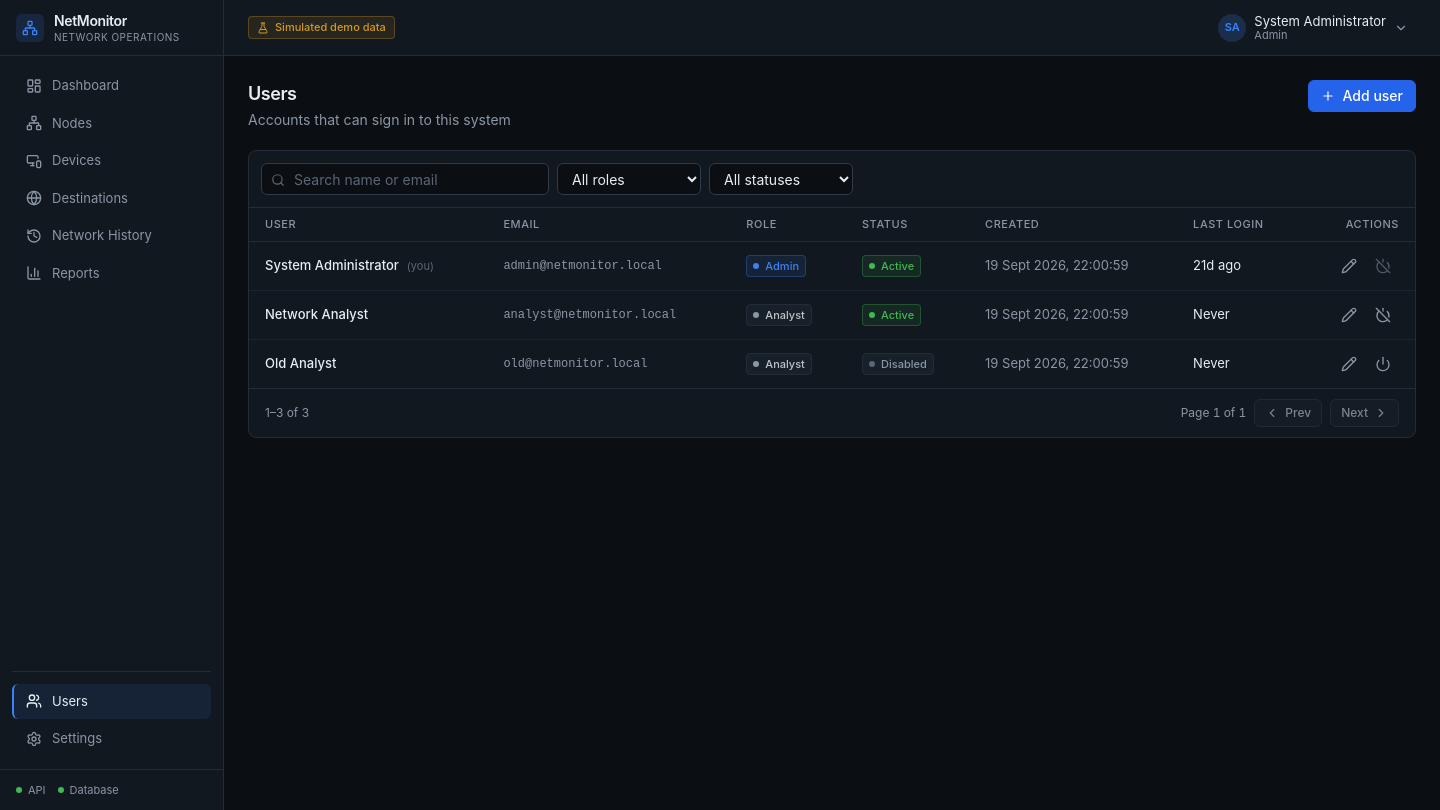
Test: UsersPage › adds a user after validating the form
Click the button "Add user": coordinates (1362, 96) [1308, 80, 1416, 112]
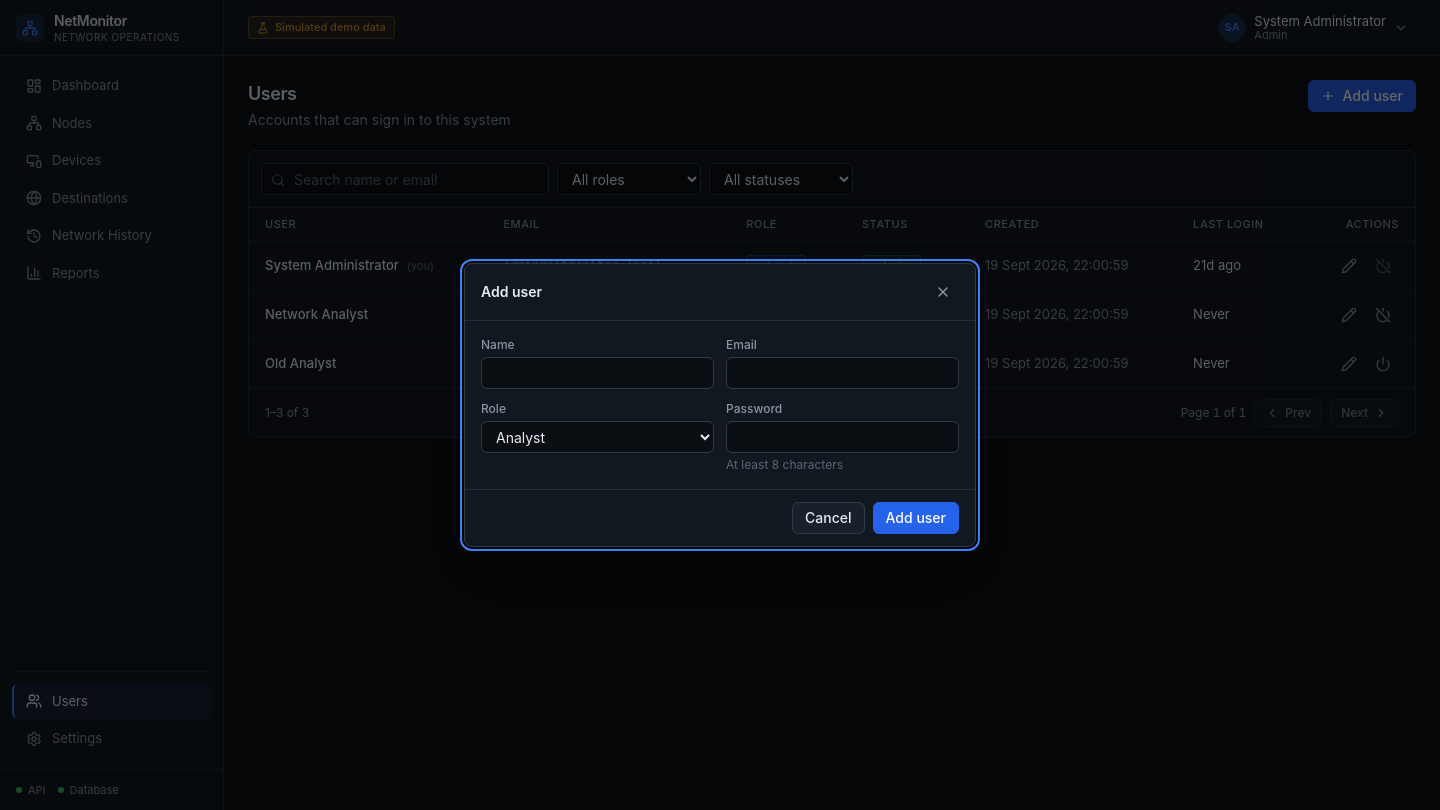
Click the button "Add user": coordinates (916, 518) [872, 502, 959, 534]
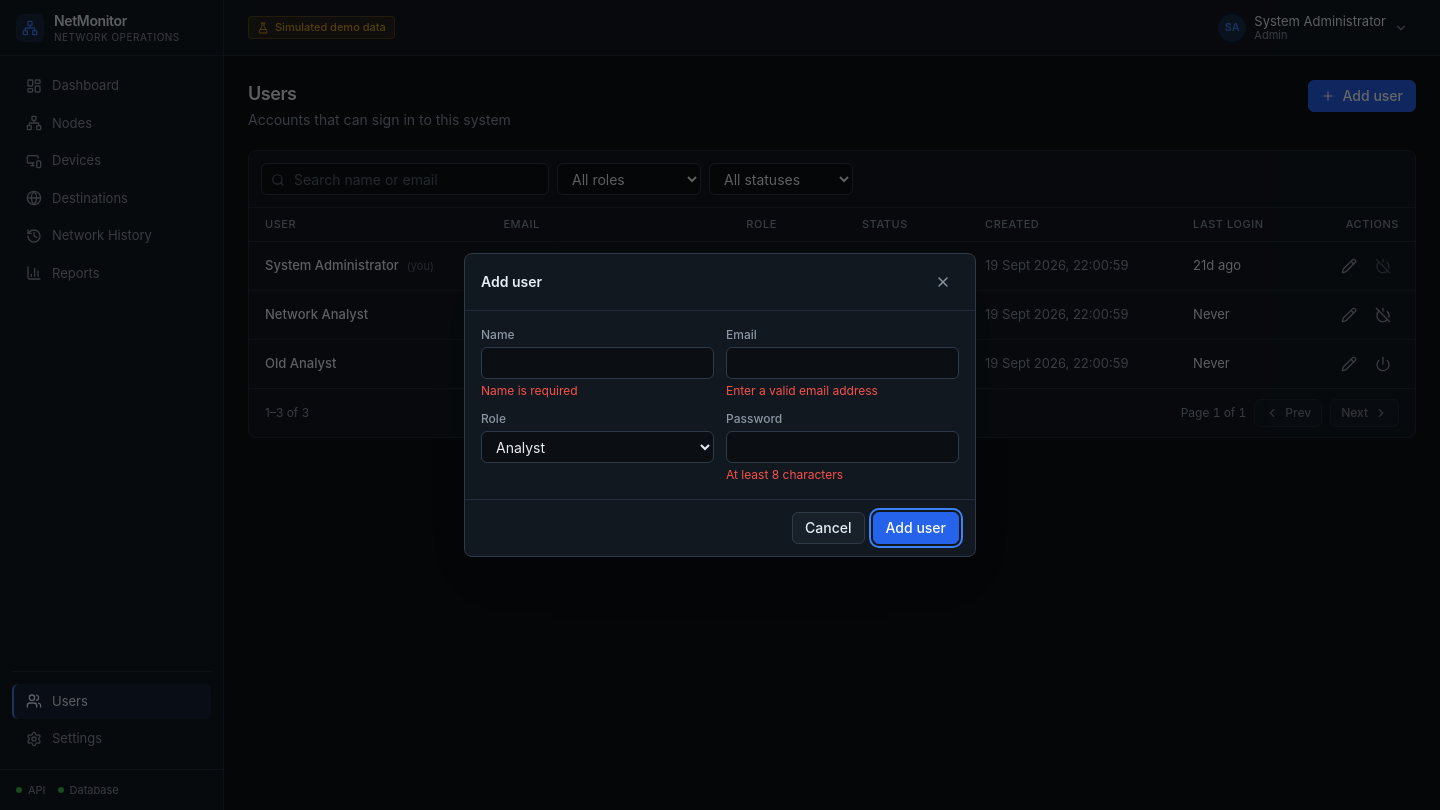
Check: the text "Name is required" is shown, box [481, 383, 578, 398]
Check: the text "Enter a valid email address" is shown, box [726, 383, 878, 398]
In the field labelled "Name": coordinates (598, 363) [481, 347, 714, 379], type "New Person"
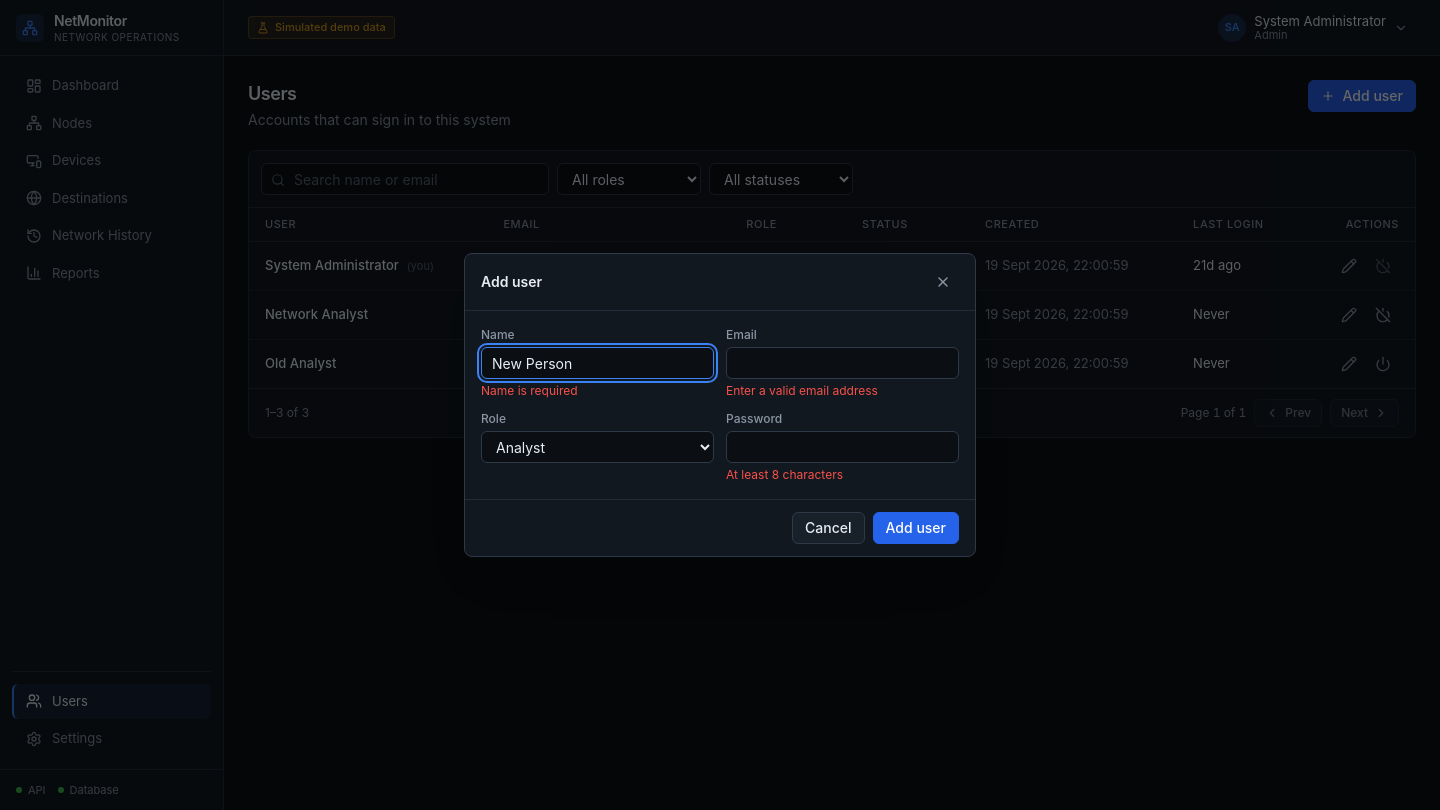
In the field labelled "Email": coordinates (842, 363) [726, 347, 959, 379], type "new@netmonitor.local"
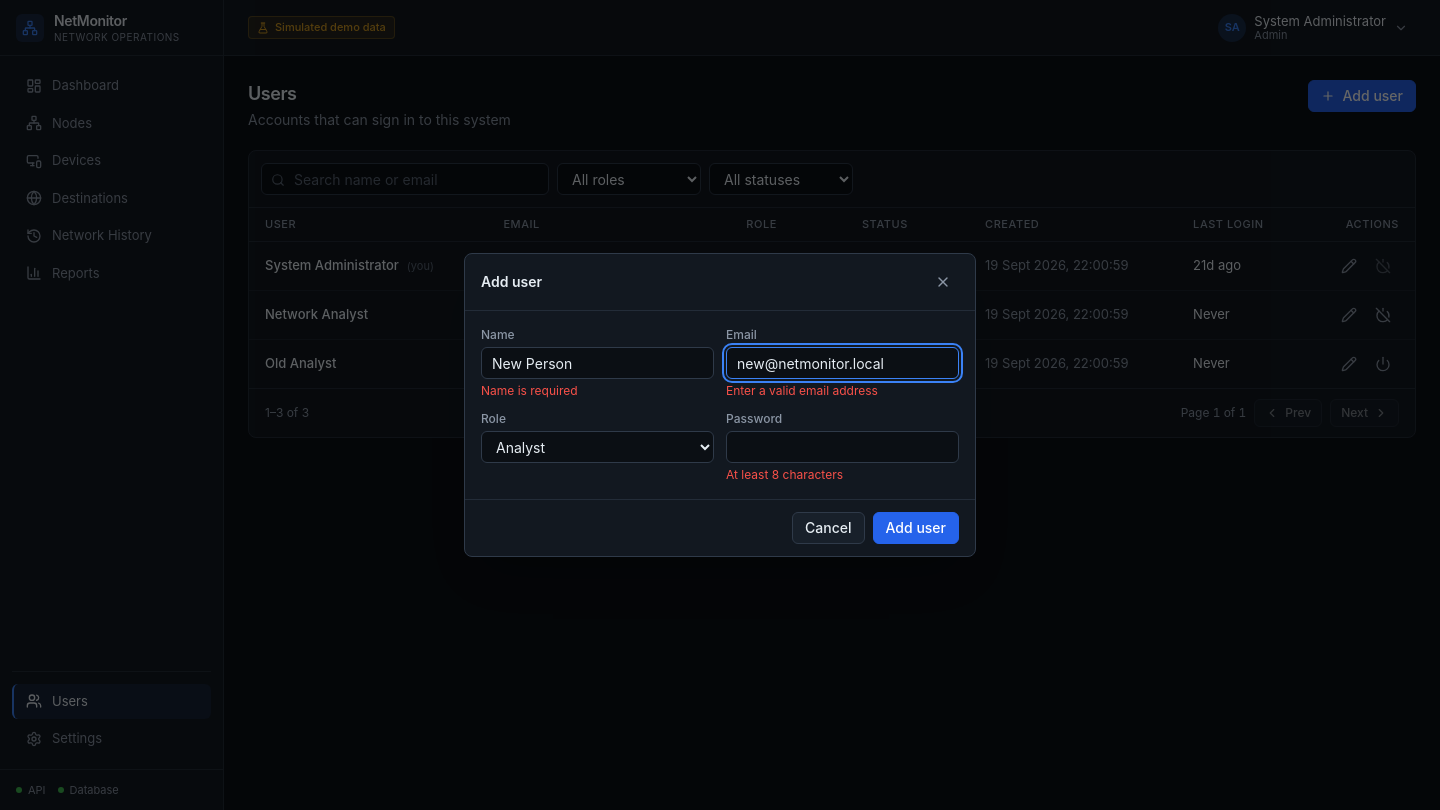
In the password field labelled "Password": coordinates (842, 447) [726, 431, 959, 463], type "a-long-enough-password"
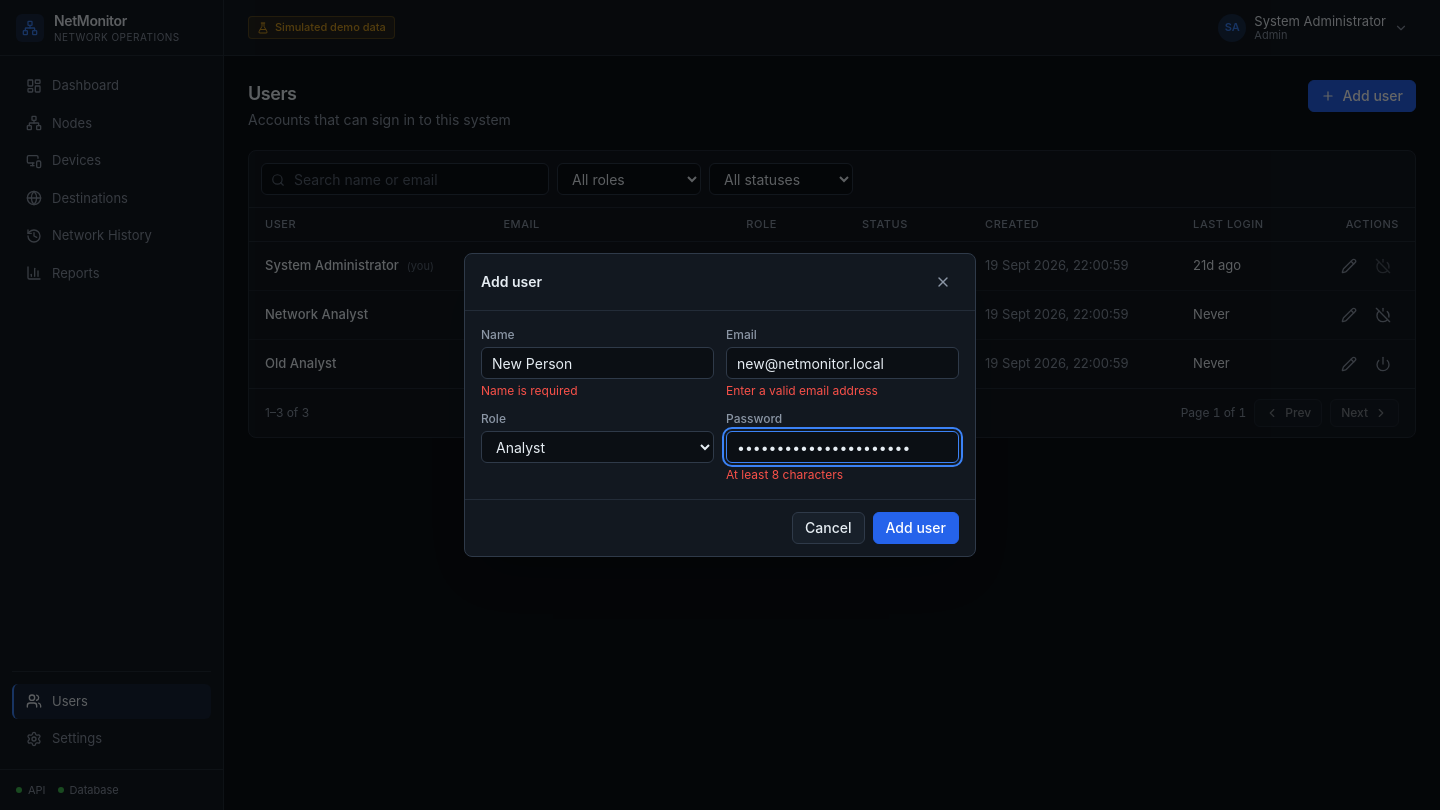
Click the button "Add user": coordinates (916, 528) [872, 512, 959, 544]
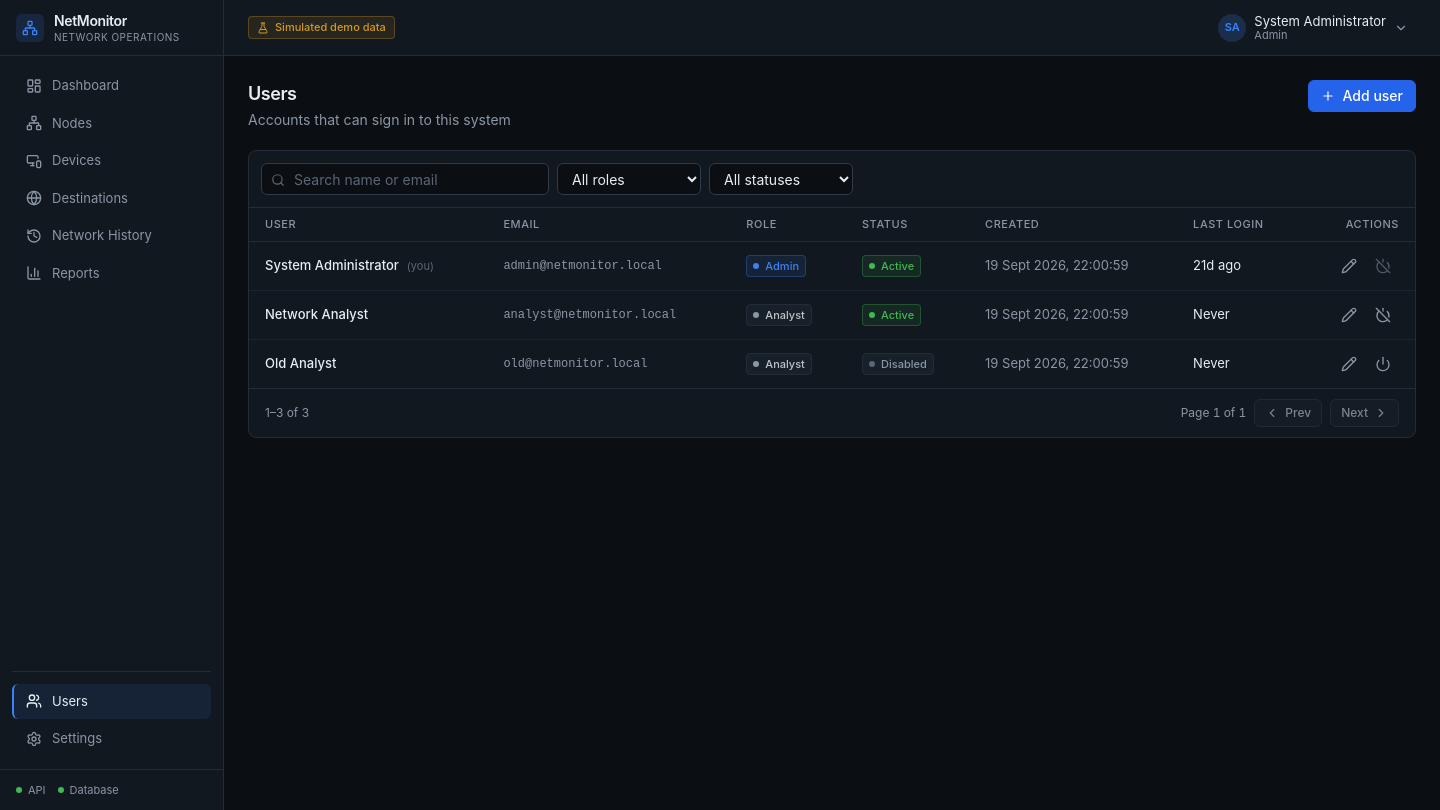
Check: the dialog is gone
